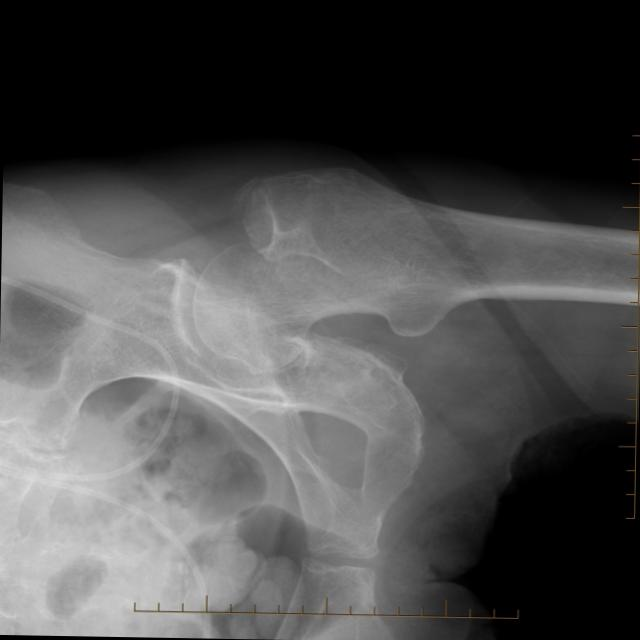left-grater-trochanter: (193, 166, 511, 373), (233, 175, 259, 206)
